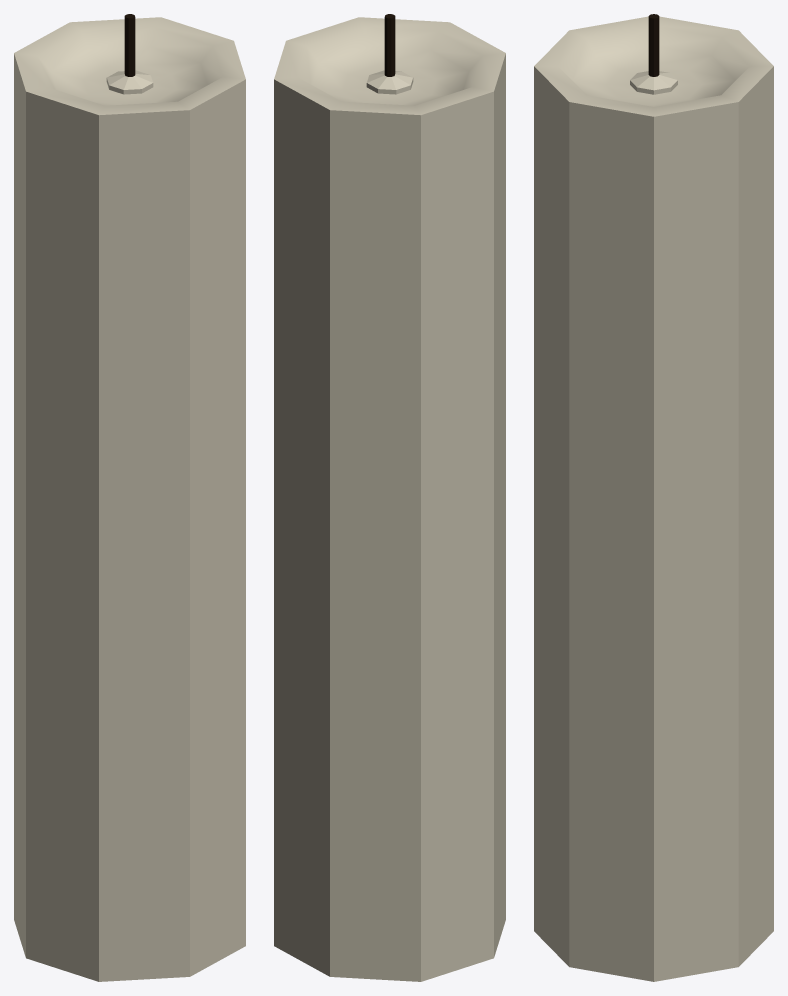
Rendered from Candle.fbx.
The picture shows the model from 3 angles, left to right: view 1: azimuth 30°, elevation 25°; view 2: azimuth 150°, elevation 25°; view 3: azimuth 270°, elevation 25°; orthographic projection.
Parts seen in each view (by area): view 1: pCylinder1; view 2: pCylinder1; view 3: pCylinder1.
Part boxes in pixels (left/top/right/bottom): pCylinder1: left=14, top=14, right=245, bottom=981; pCylinder1: left=274, top=14, right=505, bottom=981; pCylinder1: left=534, top=14, right=773, bottom=981.
Bounding box in the file's own units: 0.0221 × 0.0932 × 0.0221.
